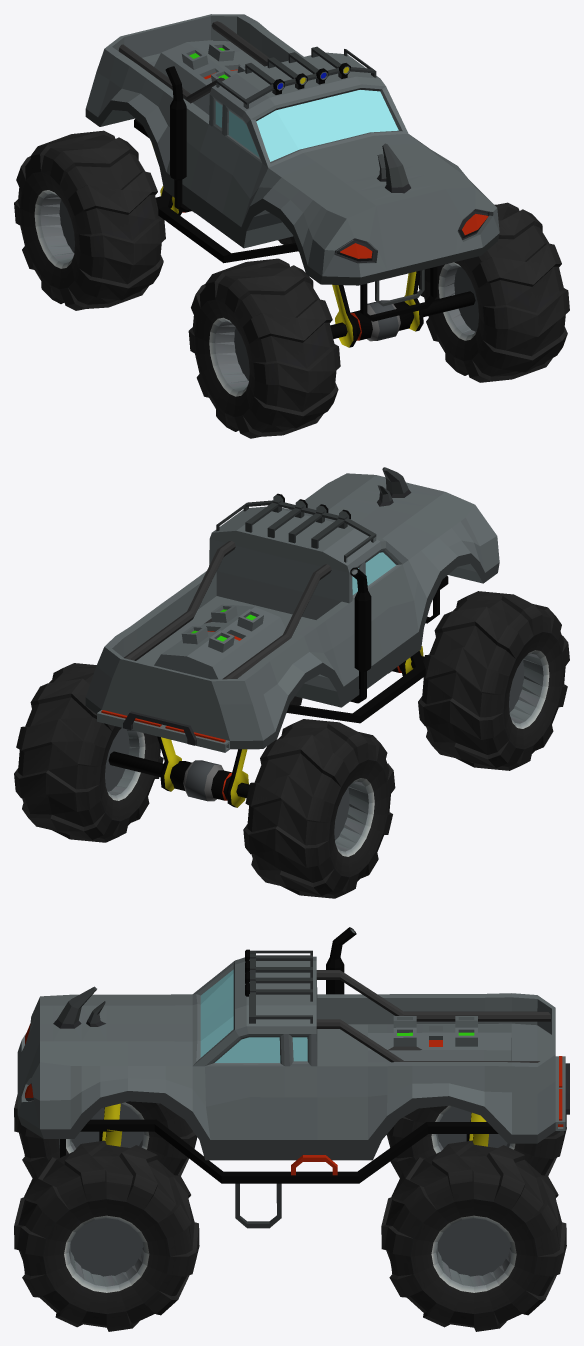
File: Rhino.fbx
3 views of the same model, one above another, from view 1: azimuth 30°, elevation 25°; view 2: azimuth 150°, elevation 25°; view 3: azimuth 270°, elevation 25° (orthographic). The views are drawn at different scales.
Parts seen in each view (by area): view 1: Monster_Truck_Body, Wheel_FR, Wheel_RR, Wheel_FL, Axel Front; view 2: Monster_Truck_Body, Wheel_RR, Wheel_FR, Wheel_RL, Axel Back; view 3: Monster_Truck_Body, Wheel_FL, Wheel_RL, Wheel_FR, Wheel_RR, Axel Front.
Part boxes in pixels (x1,y1,x2,y2): Monster_Truck_Body: [85, 14, 499, 321]; Wheel_FR: [188, 258, 340, 438]; Wheel_RR: [14, 130, 165, 310]; Wheel_FL: [418, 202, 569, 382]; Axel Front: [330, 270, 475, 347]; Monster_Truck_Body: [85, 467, 499, 752]; Wheel_RR: [243, 719, 395, 898]; Wheel_FR: [418, 591, 569, 770]; Wheel_RL: [14, 663, 163, 842]; Axel Back: [108, 736, 249, 807]; Monster_Truck_Body: [17, 927, 569, 1228]; Wheel_FL: [14, 1140, 199, 1331]; Wheel_RL: [381, 1140, 566, 1331]; Wheel_FR: [14, 1094, 197, 1177]; Wheel_RR: [386, 1105, 566, 1177]; Axel Front: [99, 1103, 122, 1146].
Size of the model in its own units: 485 by 419 by 720.
